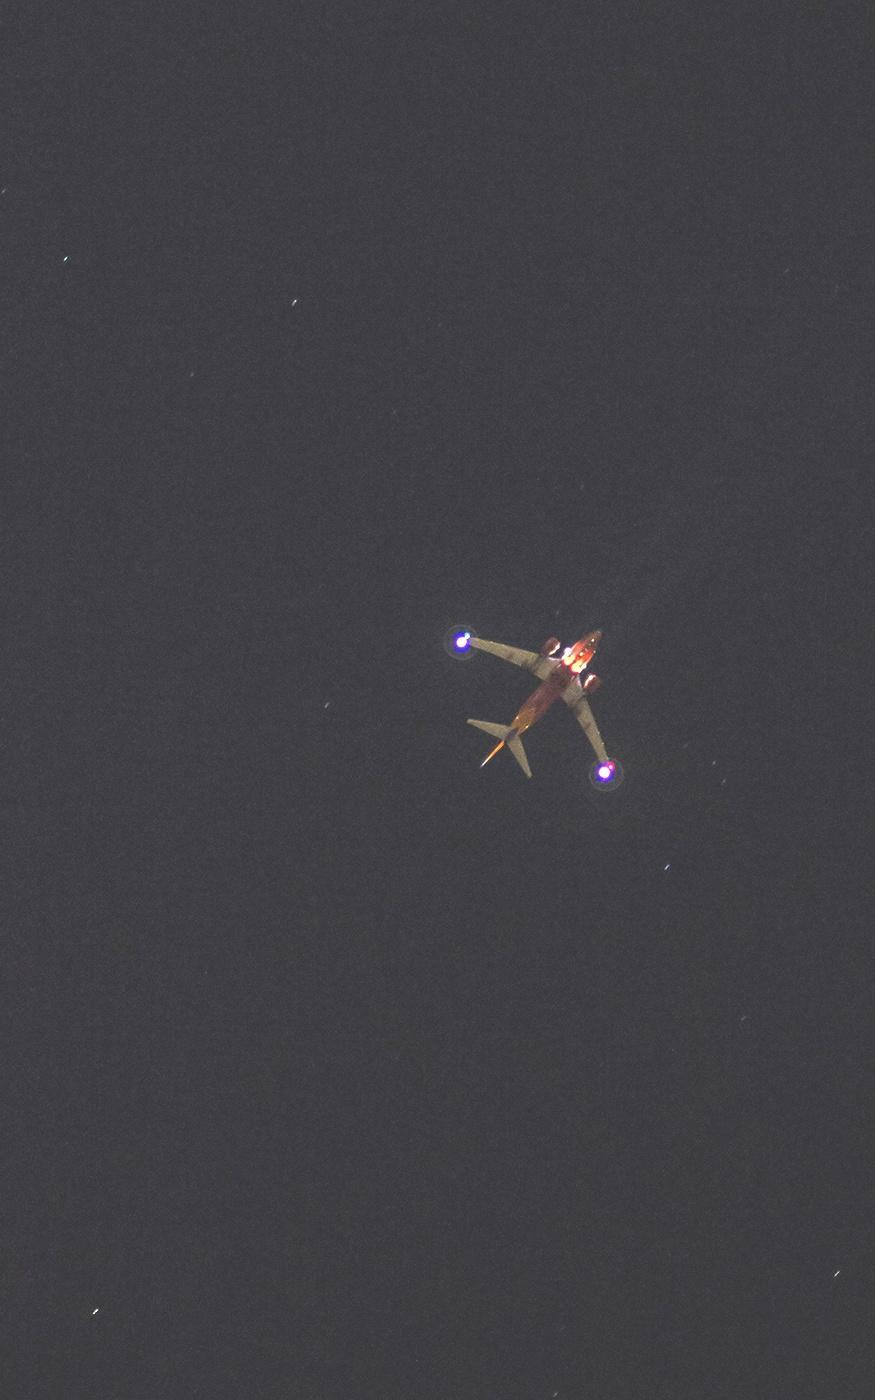Plane: (415, 597, 696, 802)
